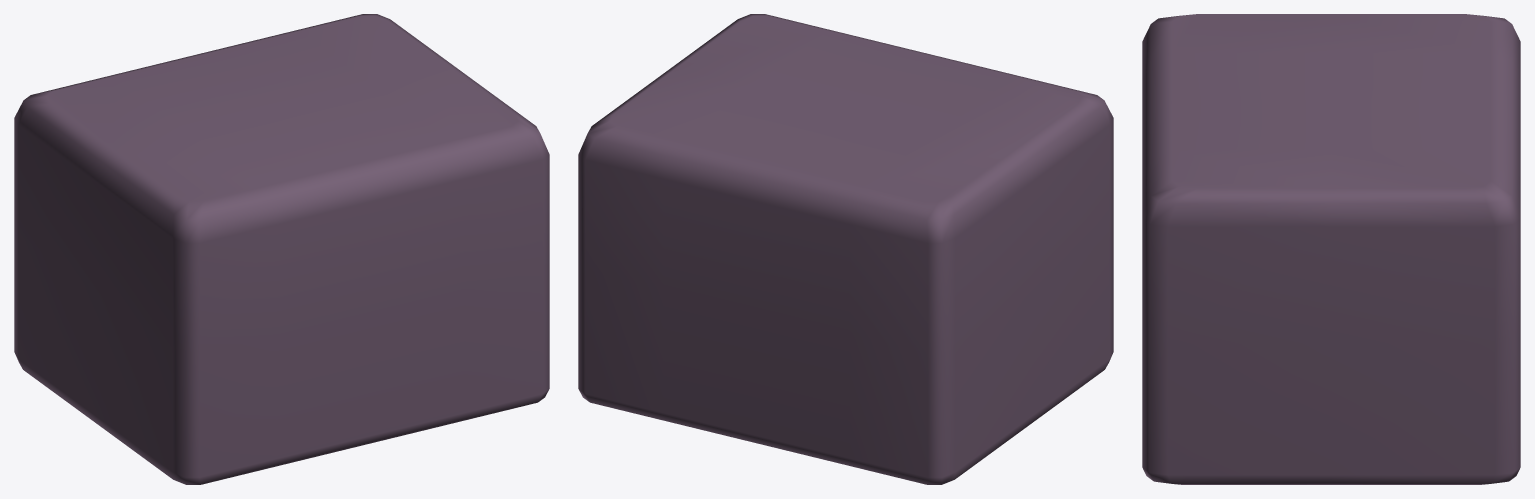
File: Game2Brick_S.fbx
3 renders of one model, left to right at view 1: azimuth 30°, elevation 25°; view 2: azimuth 150°, elevation 25°; view 3: azimuth 270°, elevation 25°, orthographic. The views are drawn at different scales.
Visible parts, largest first — view 1: Brick_S; view 2: Brick_S; view 3: Brick_S.
Boxes of the visible parts, left/top/right/bottom form: Brick_S: left=14, top=14, right=549, bottom=484; Brick_S: left=578, top=14, right=1113, bottom=484; Brick_S: left=1142, top=14, right=1520, bottom=484.
Size of the model in its own units: 1.14 by 0.8059 by 0.948.
